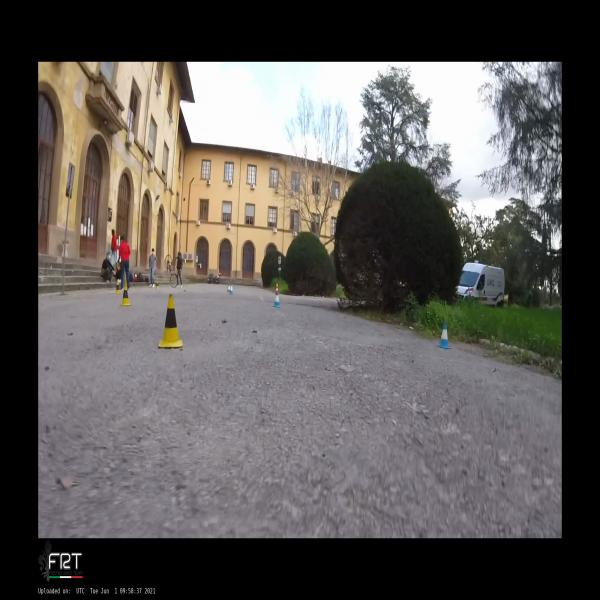blue_cone: (436, 322, 452, 349), (272, 292, 281, 308), (229, 284, 234, 295), (228, 284, 230, 292)
large_orange_cone: (274, 283, 278, 295)
orange_cone: (134, 272, 138, 280)
yellow_cone: (158, 294, 183, 348), (120, 282, 131, 306), (115, 281, 121, 294), (156, 281, 159, 289)
